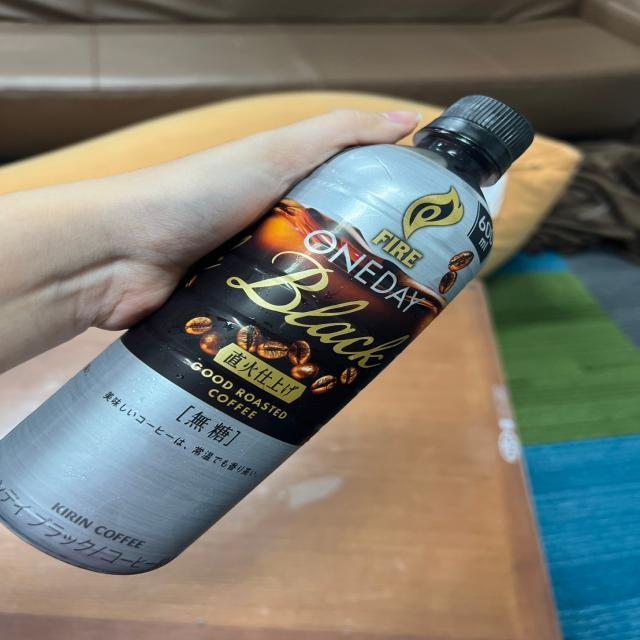coffee-black: (0, 73, 546, 579)
